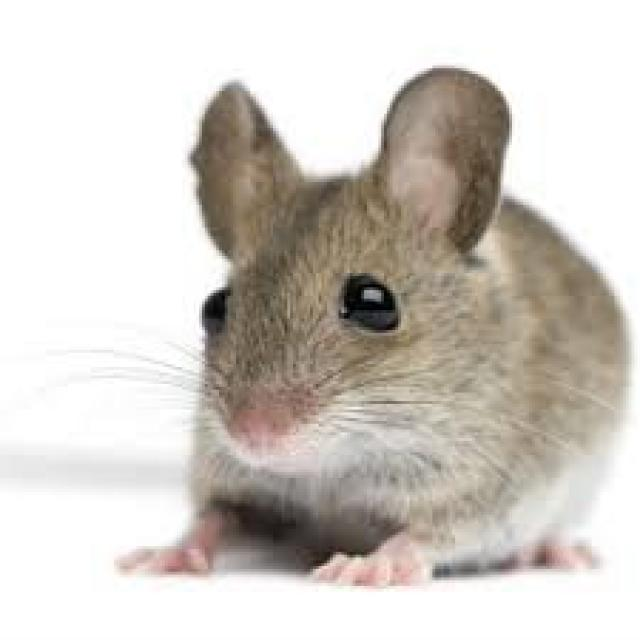Mouse: (136, 80, 624, 591)
